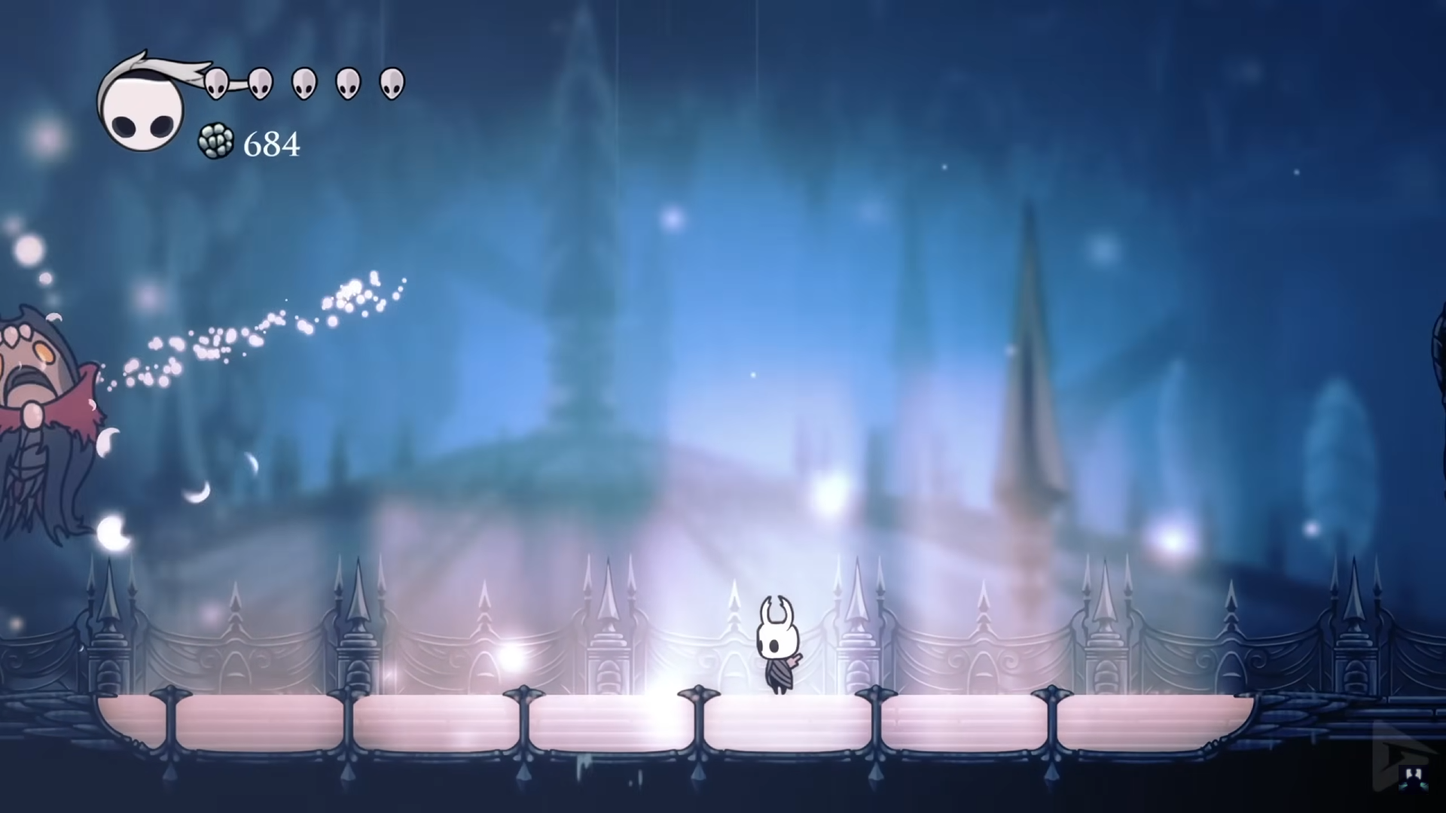HK: (750, 590, 807, 700)
